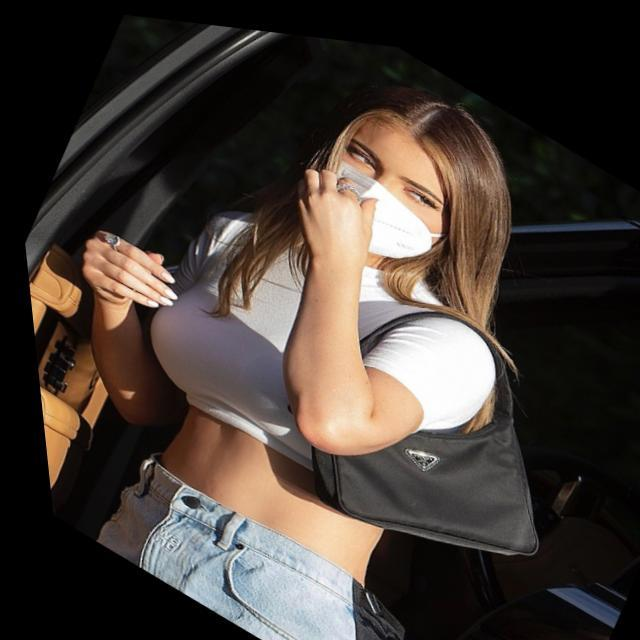Nonhelmet: (288, 70, 480, 275)
